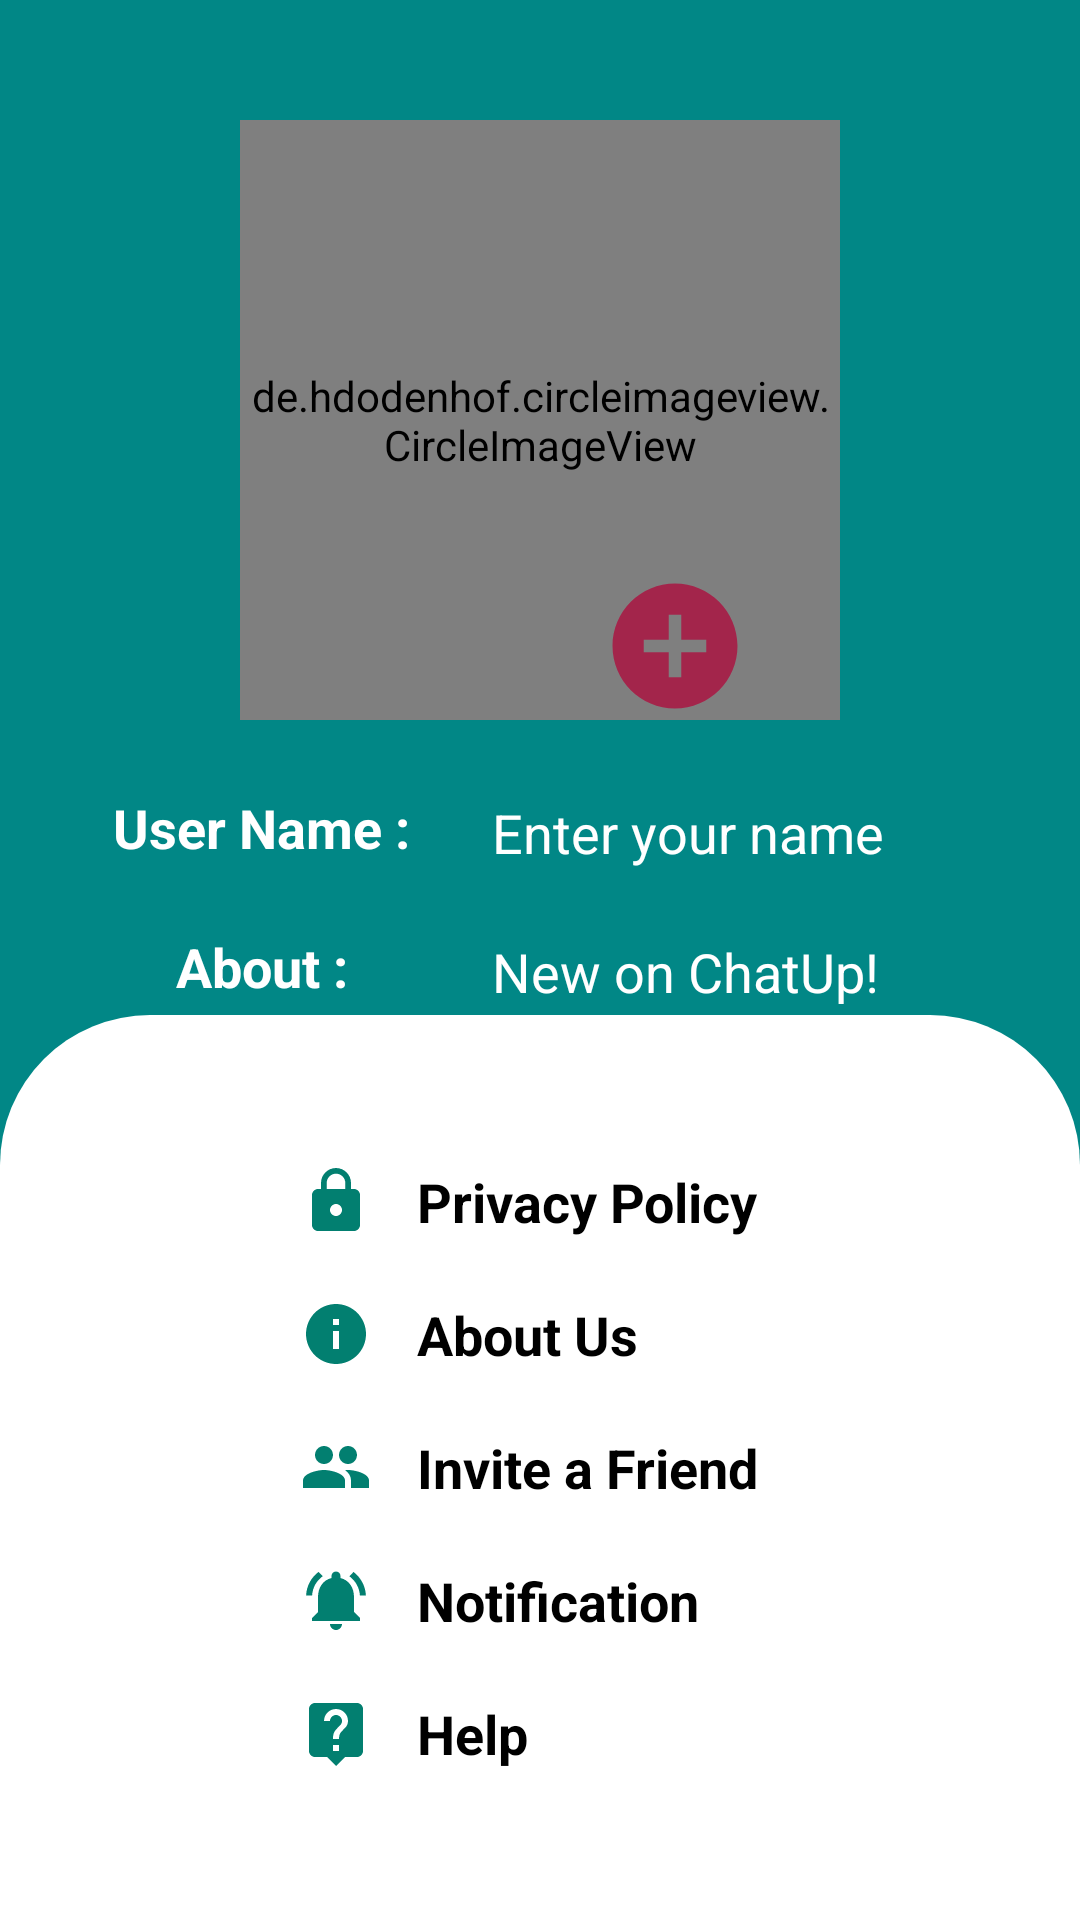

Named icons in this screenshot (1080*1920) and their bounding boxes, (x1, y1, x2, y2):
addition: (612, 583, 738, 709)
